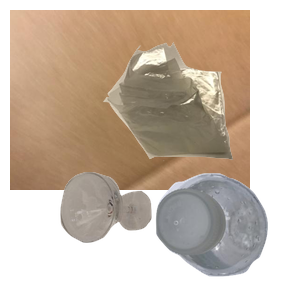cardboard: (10, 10, 250, 190)
glass: (58, 170, 202, 300)
plastic: (153, 170, 300, 300)
trash: (101, 40, 300, 192)
